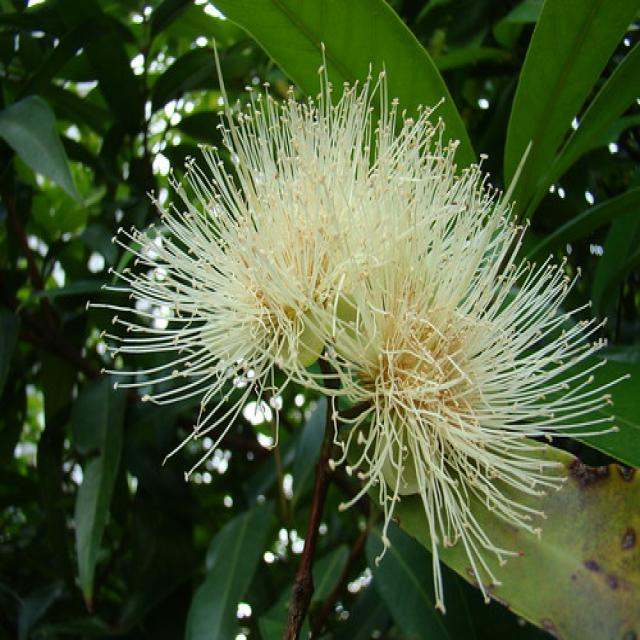Medicinal-Rose Apple: (39, 0, 640, 640)
